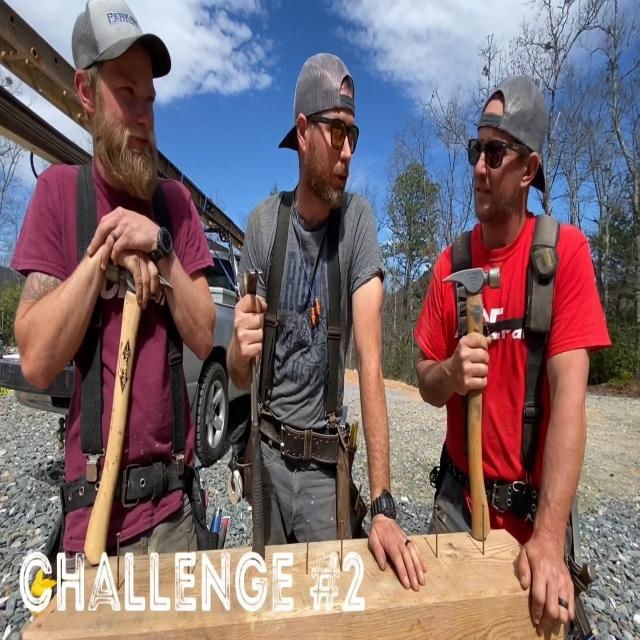hammer: (84, 258, 173, 558), (442, 267, 500, 538), (238, 268, 264, 553)
